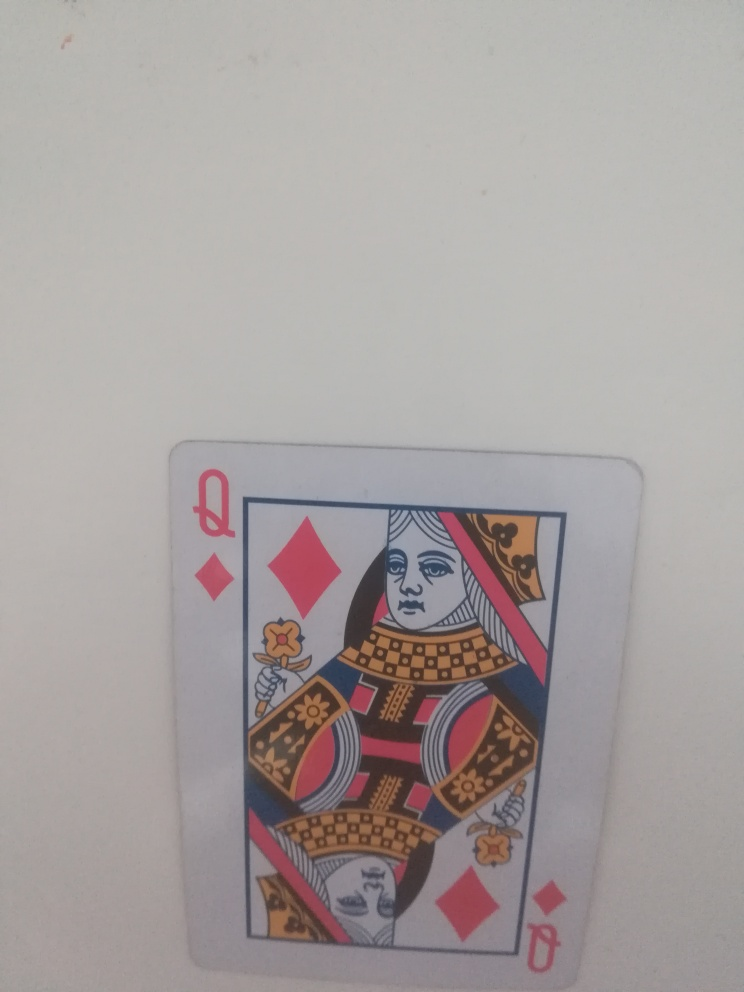QD: (185, 458, 240, 610)
